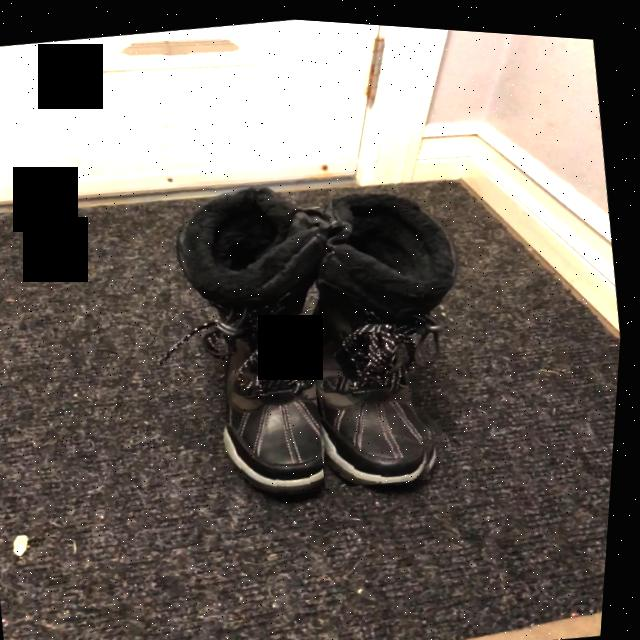shoe: (314, 286, 437, 478), (215, 311, 339, 490)
